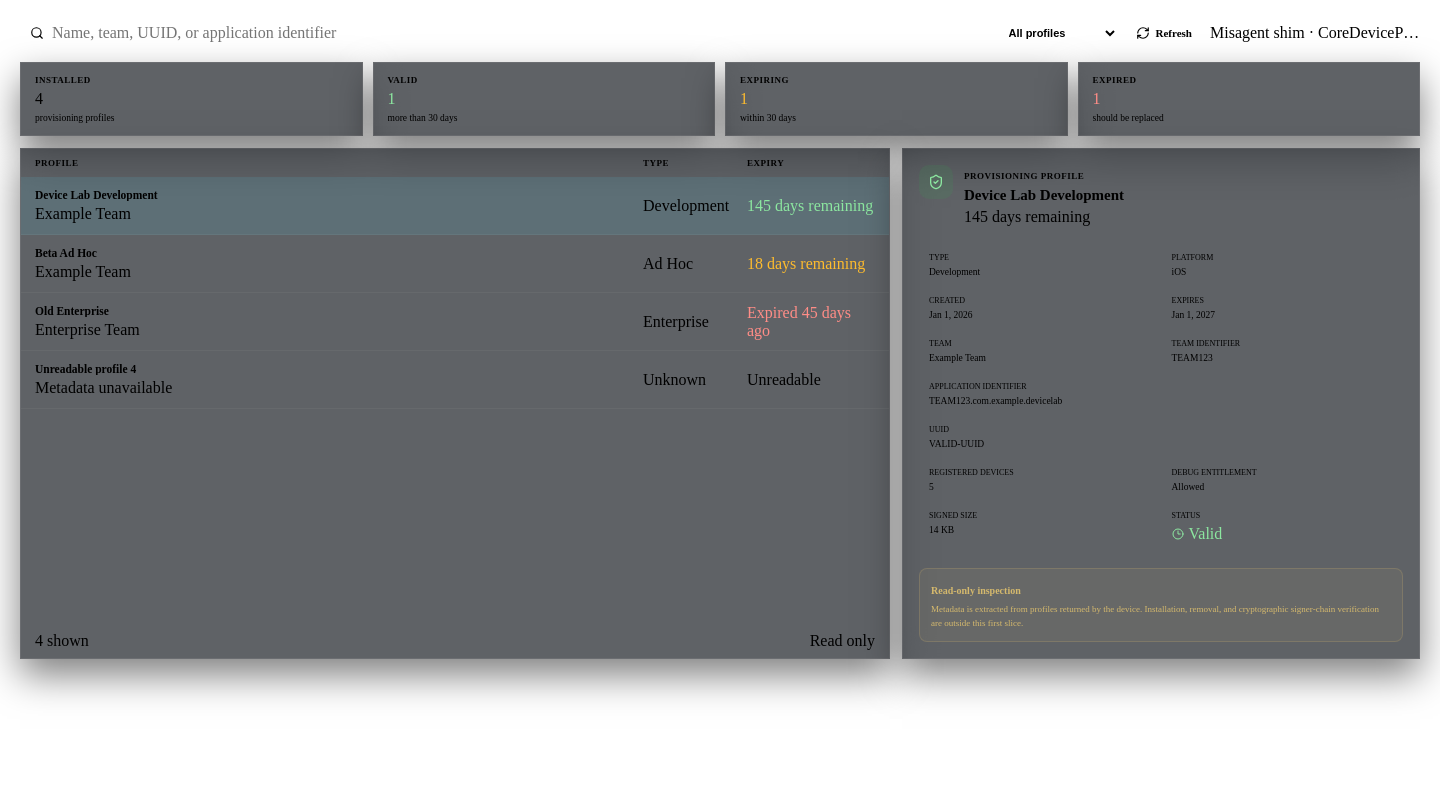
Provisioning Profiles workflow › shows expiration and signing scope for the selected distribution profile
Click the button "Old Enterprise": (72, 310) [21,293,889,351]
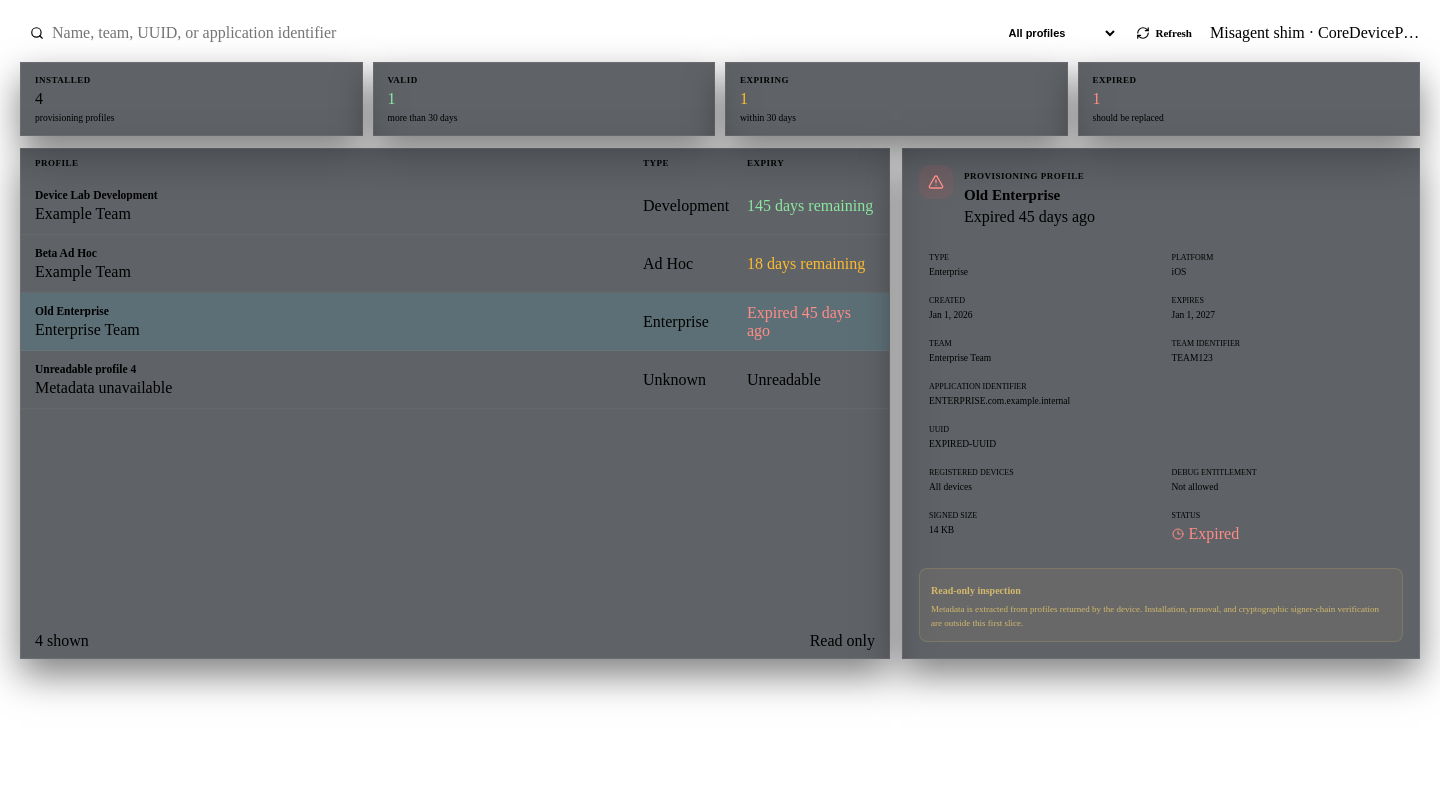
expect the text "All devices" is shown: met, box [929,482,972,492]
expect the text "ENTERPRISE.com.example.internal" is shown: met, box [929,396,1070,406]
expect the text "Not allowed" is shown: met, box [1172,482,1218,492]
